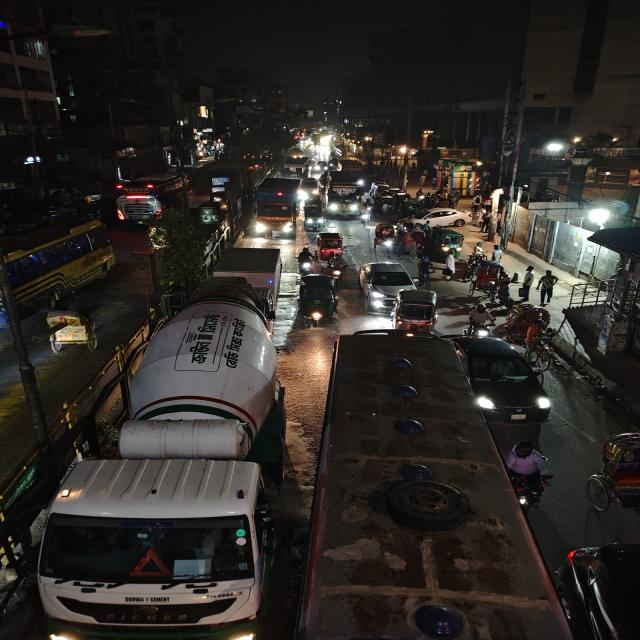bus: (0, 216, 115, 317), (114, 173, 193, 224), (322, 171, 366, 219), (280, 156, 310, 178)
car: (448, 334, 553, 422), (566, 539, 640, 640), (356, 260, 416, 306), (416, 207, 465, 227)
cng: (297, 274, 338, 325), (315, 231, 348, 261), (433, 228, 467, 256), (199, 201, 228, 227), (302, 199, 325, 231)
motorcycle: (502, 438, 558, 508), (466, 303, 494, 336), (296, 244, 318, 276)
pedestrian: (536, 268, 560, 304), (415, 252, 434, 284), (522, 264, 538, 289), (470, 240, 487, 262), (490, 243, 505, 264), (518, 283, 532, 303), (509, 269, 520, 285)
rickshaw: (584, 428, 640, 523), (38, 297, 102, 357), (391, 290, 440, 332), (468, 261, 508, 299), (371, 222, 400, 256), (402, 229, 427, 257)
truck: (39, 295, 271, 639), (211, 245, 289, 305), (251, 176, 303, 239)
